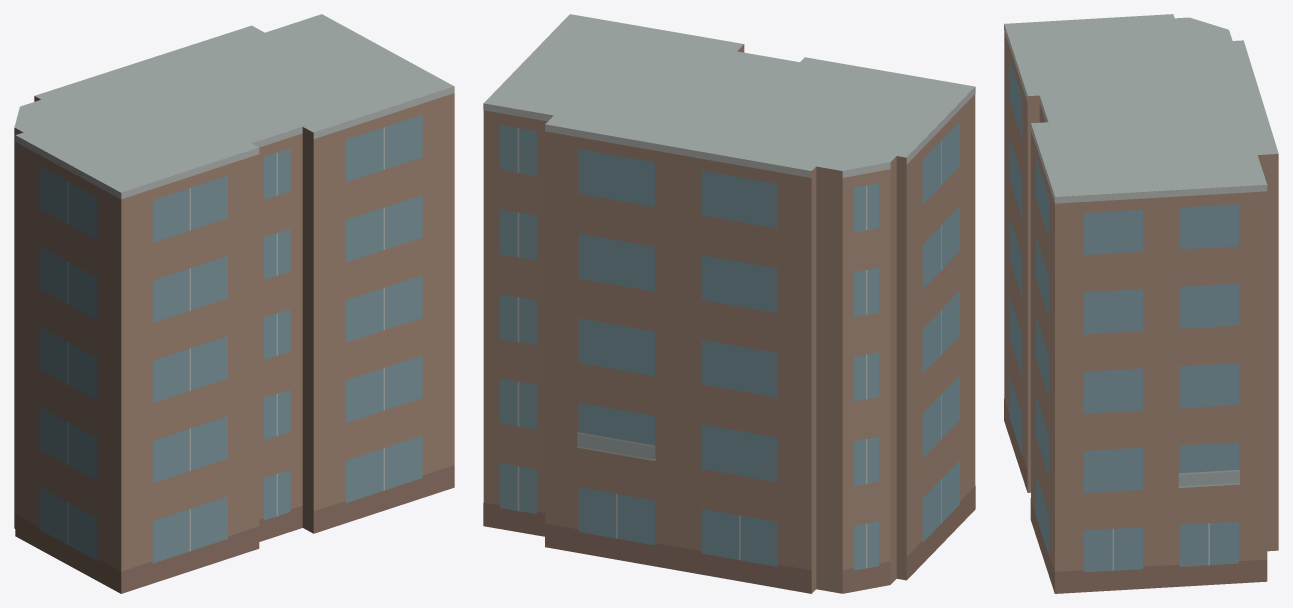
The model's file is survey-upis-32736928.glb.
3 views of the same model, side by side, from view 1: azimuth 30°, elevation 25°; view 2: azimuth 150°, elevation 25°; view 3: azimuth 270°, elevation 25° (orthographic). The views are drawn at different scales.
Parts seen in each view (by area): view 1: survey-upis-32736928.tmp; view 2: survey-upis-32736928.tmp; view 3: survey-upis-32736928.tmp.
Boxes of the visible parts, x1,y1,x2,y2 form: survey-upis-32736928.tmp: [14, 14, 454, 593]; survey-upis-32736928.tmp: [483, 14, 975, 593]; survey-upis-32736928.tmp: [1004, 14, 1278, 593].
Bounding box in the file's own units: 14.66 × 14.8 × 9.3.
